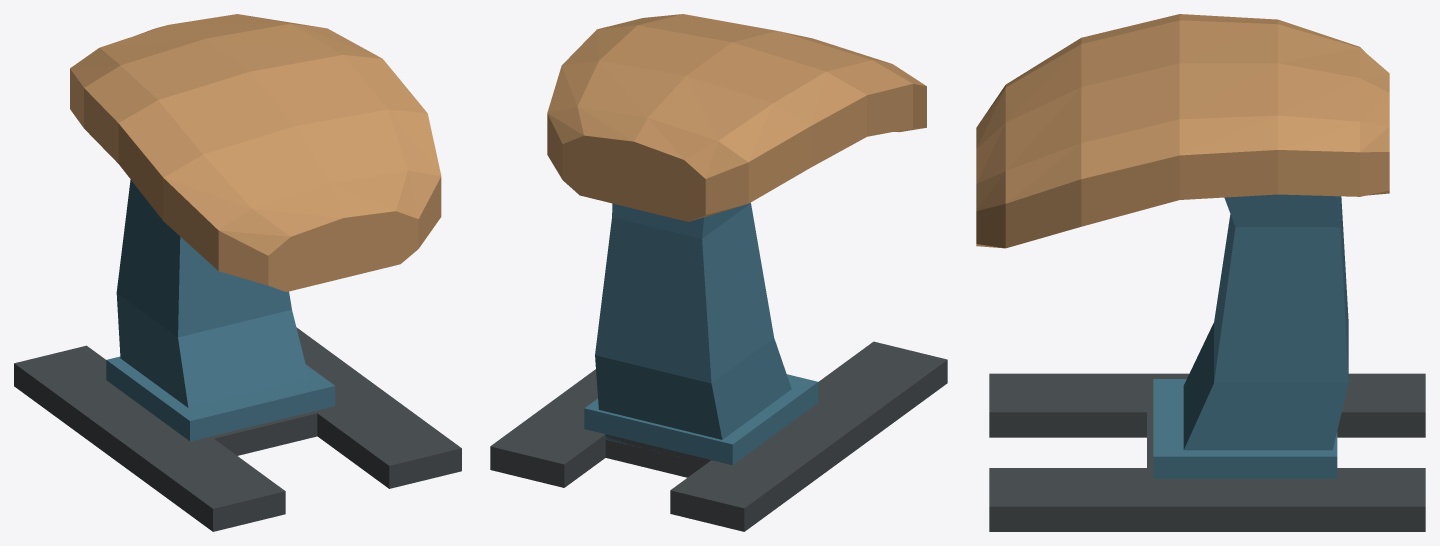
The picture shows the model from 3 angles, left to right: view 1: azimuth 30°, elevation 25°; view 2: azimuth 150°, elevation 25°; view 3: azimuth 270°, elevation 25°; orthographic projection. The views are drawn at different scales.
Visible parts, largest first — view 1: WholeBroadCrownedCurvedVaultHead, WholeForkEndedGroundChassis, WholeOffsetTaperedSupportColumn, WholeCentralPedestalMount; view 2: WholeBroadCrownedCurvedVaultHead, WholeOffsetTaperedSupportColumn, WholeForkEndedGroundChassis, WholeCentralPedestalMount; view 3: WholeBroadCrownedCurvedVaultHead, WholeForkEndedGroundChassis, WholeOffsetTaperedSupportColumn, WholeCentralPedestalMount.
Boxes of the visible parts, x1,y1,x2,y2 form: WholeBroadCrownedCurvedVaultHead: (70, 14, 441, 291); WholeForkEndedGroundChassis: (14, 327, 461, 531); WholeOffsetTaperedSupportColumn: (116, 180, 308, 407); WholeCentralPedestalMount: (106, 356, 335, 441); WholeBroadCrownedCurvedVaultHead: (547, 14, 926, 221); WholeOffsetTaperedSupportColumn: (595, 202, 791, 439); WholeForkEndedGroundChassis: (490, 341, 947, 531); WholeCentralPedestalMount: (584, 374, 818, 465); WholeBroadCrownedCurvedVaultHead: (976, 14, 1389, 248); WholeForkEndedGroundChassis: (989, 373, 1425, 531); WholeOffsetTaperedSupportColumn: (1183, 194, 1348, 450); WholeCentralPedestalMount: (1153, 379, 1337, 478).
Size of the model in its own units: 1.02 by 1.35 by 1.37.
